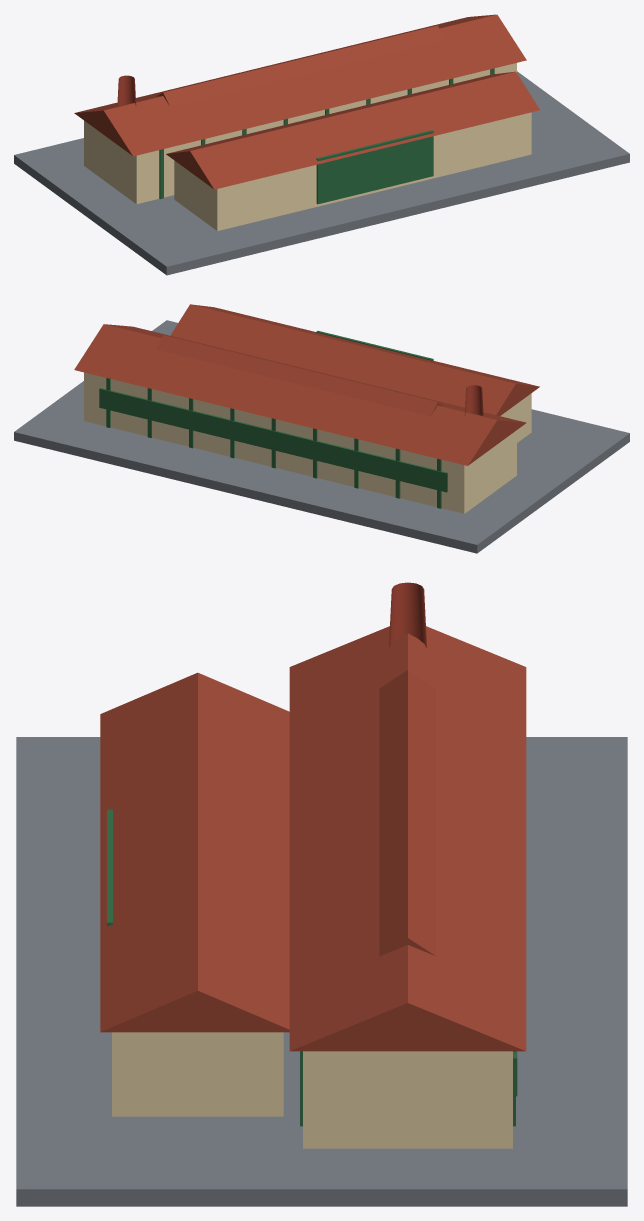
File: lm_30_doi_che_cau_dat_heritage_tea_factory.glb
The picture shows the model from 3 angles, top to bottom: view 1: azimuth 30°, elevation 25°; view 2: azimuth 150°, elevation 25°; view 3: azimuth 270°, elevation 25°; orthographic projection. The views are drawn at different scales.
Parts seen in each view (by area): view 1: Factory_Monitor_Roofs, Factory_Stone_Courtyard, Heritage_1927_Factory_Halls, Heritage_Green_Pilasters_And_Louvres, Tea_Drying_Furnace_Chimney; view 2: Factory_Monitor_Roofs, Factory_Stone_Courtyard, Heritage_1927_Factory_Halls, Heritage_Green_Pilasters_And_Louvres, Tea_Drying_Furnace_Chimney; view 3: Factory_Monitor_Roofs, Factory_Stone_Courtyard, Heritage_1927_Factory_Halls, Tea_Drying_Furnace_Chimney, Heritage_Green_Pilasters_And_Louvres.
Boxes of the visible parts, left/top/right/bottom form: Factory_Monitor_Roofs: left=74, top=14, right=539, bottom=189; Factory_Stone_Courtyard: left=14, top=71, right=629, bottom=275; Heritage_1927_Factory_Halls: left=84, top=63, right=531, bottom=230; Heritage_Green_Pilasters_And_Louvres: left=159, top=68, right=494, bottom=204; Tea_Drying_Furnace_Chimney: left=117, top=75, right=136, bottom=106; Factory_Monitor_Roofs: left=74, top=304, right=539, bottom=465; Factory_Stone_Courtyard: left=14, top=320, right=629, bottom=553; Heritage_1927_Factory_Halls: left=84, top=372, right=531, bottom=513; Heritage_Green_Pilasters_And_Louvres: left=99, top=330, right=447, bottom=508; Tea_Drying_Furnace_Chimney: left=464, top=385, right=483, bottom=416; Factory_Monitor_Roofs: left=100, top=626, right=526, bottom=1051; Factory_Stone_Courtyard: left=16, top=737, right=627, bottom=1206; Heritage_1927_Factory_Halls: left=112, top=1032, right=512, bottom=1148; Tea_Drying_Furnace_Chimney: left=389, top=582, right=426, bottom=648; Heritage_Green_Pilasters_And_Louvres: left=107, top=809, right=517, bottom=1126.
Bounding box in the file's own units: 56 × 12.8 × 32.
